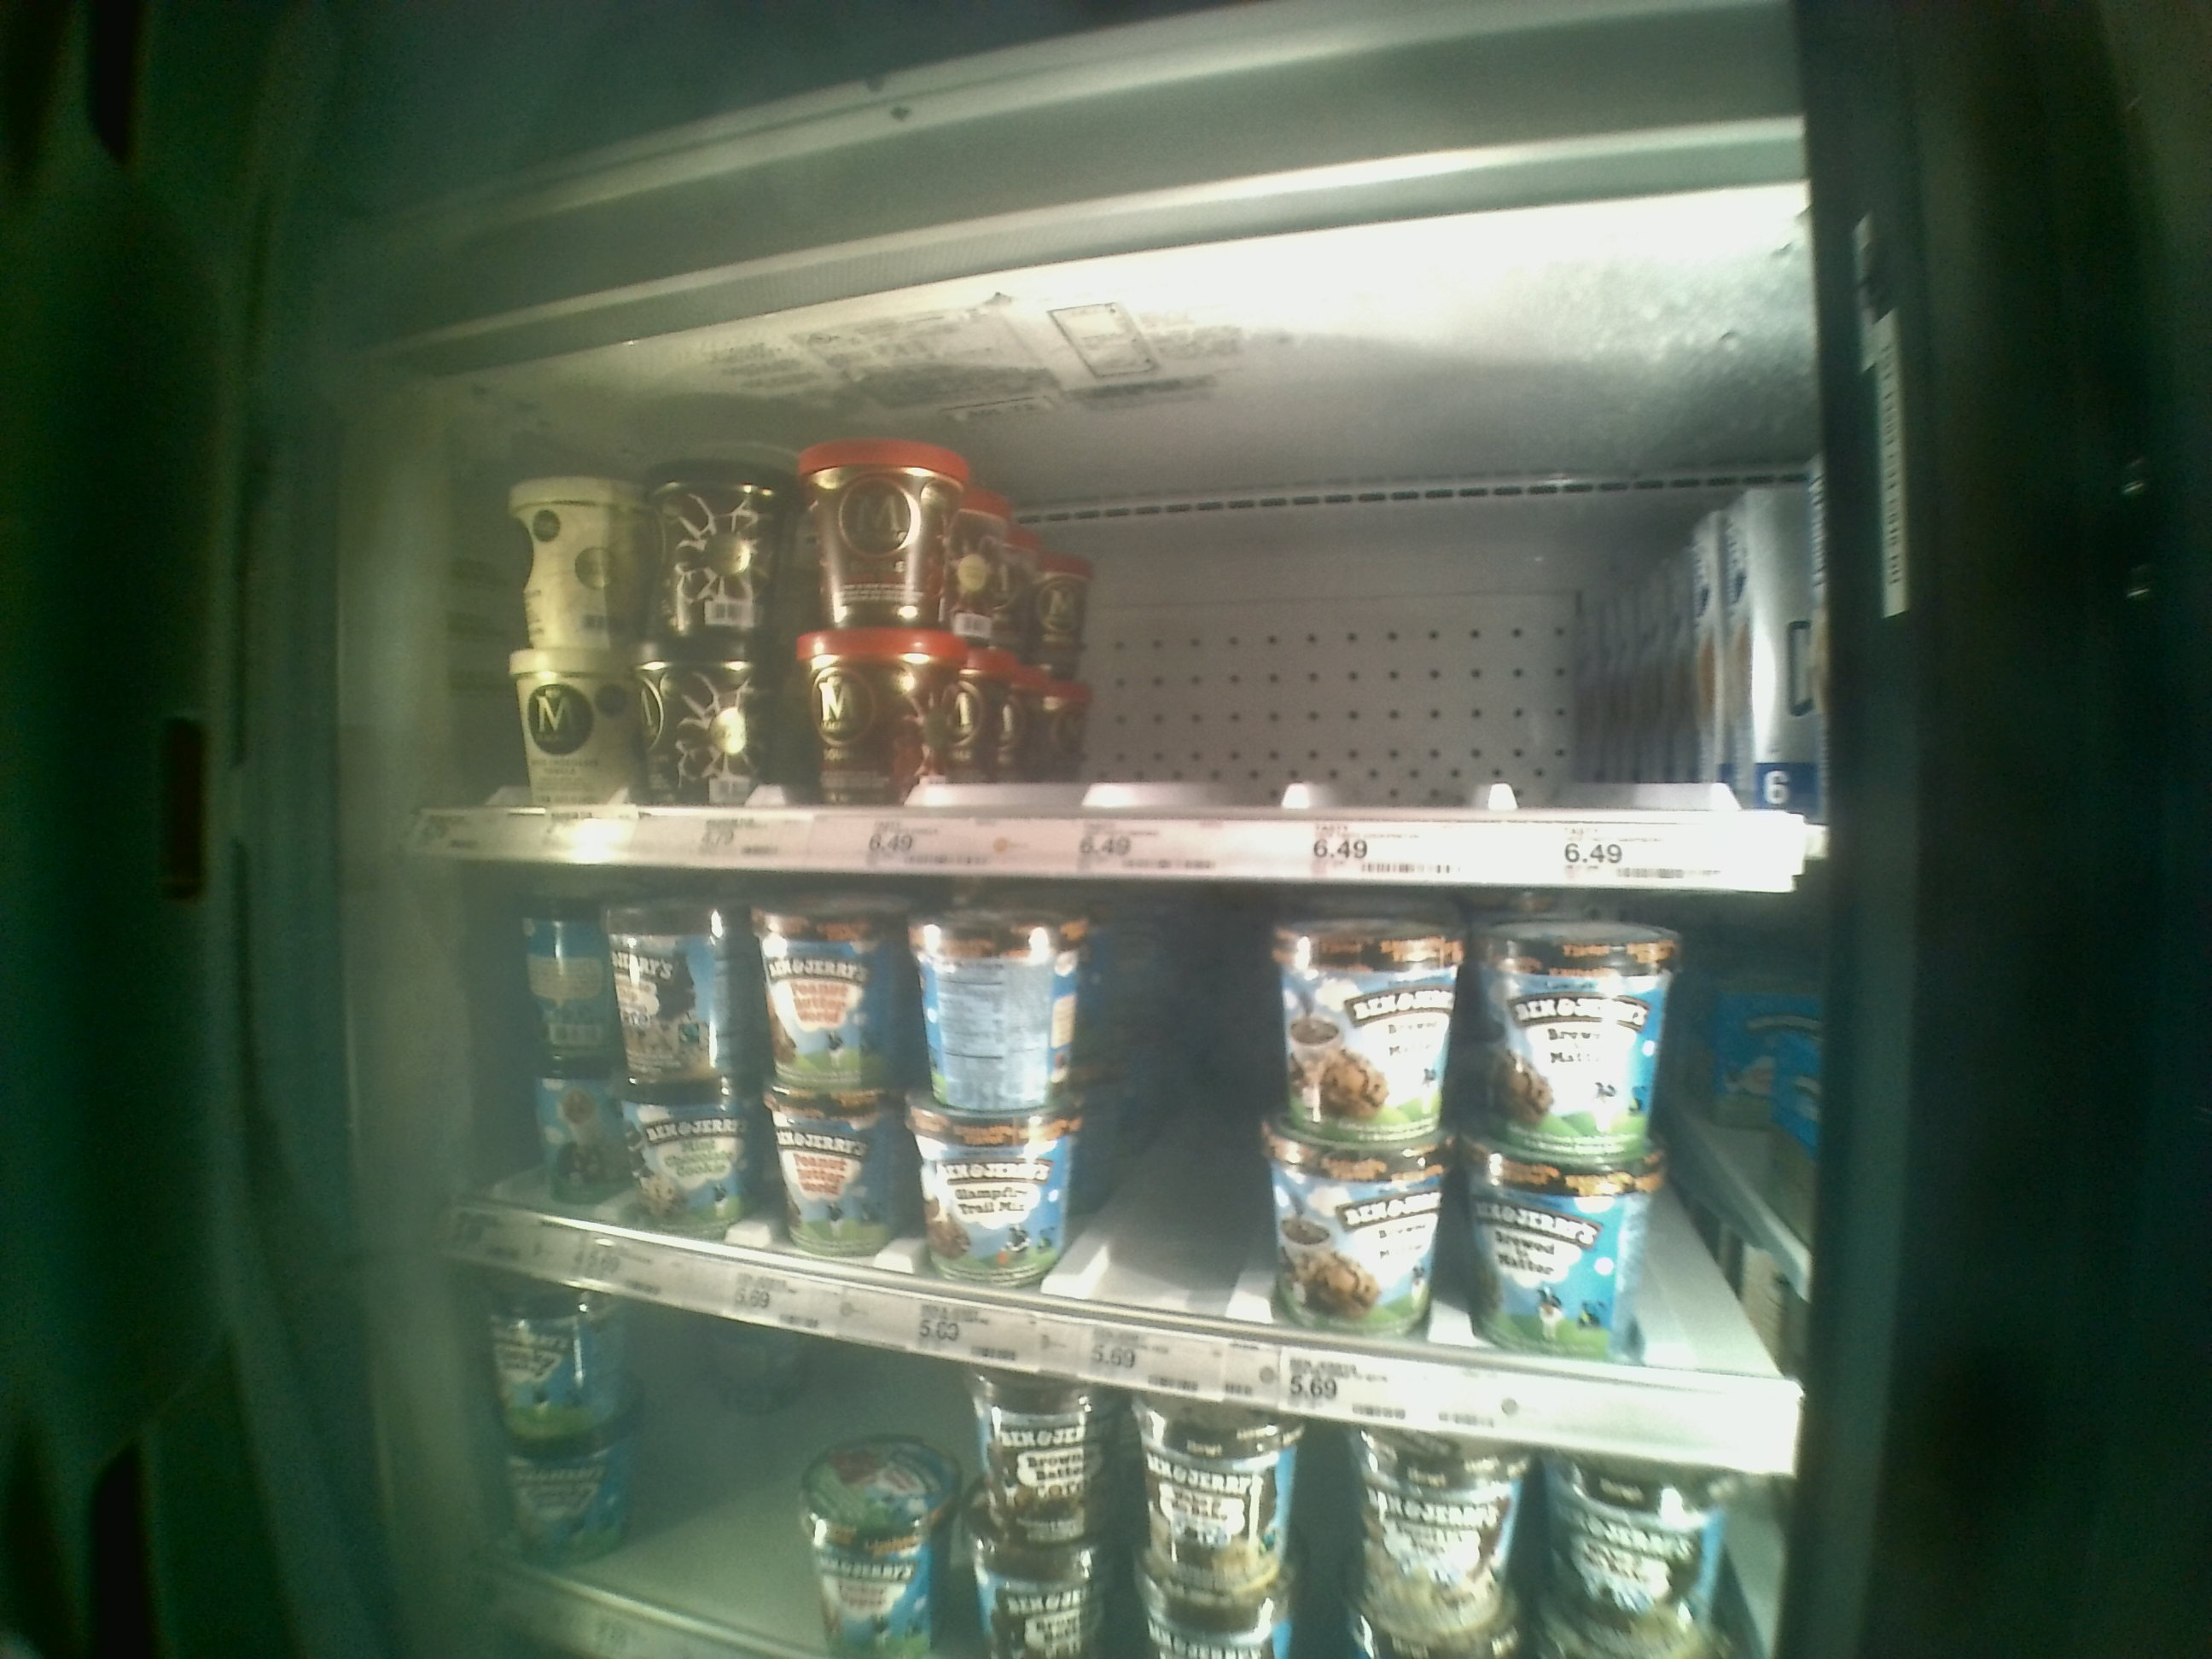shelf: (435, 868, 1827, 1490), (411, 368, 1815, 884)
